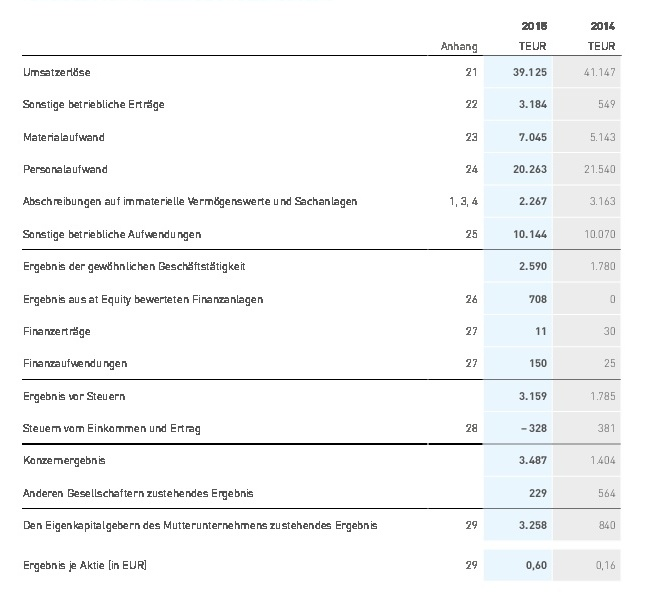table: (0, 0, 646, 594)
